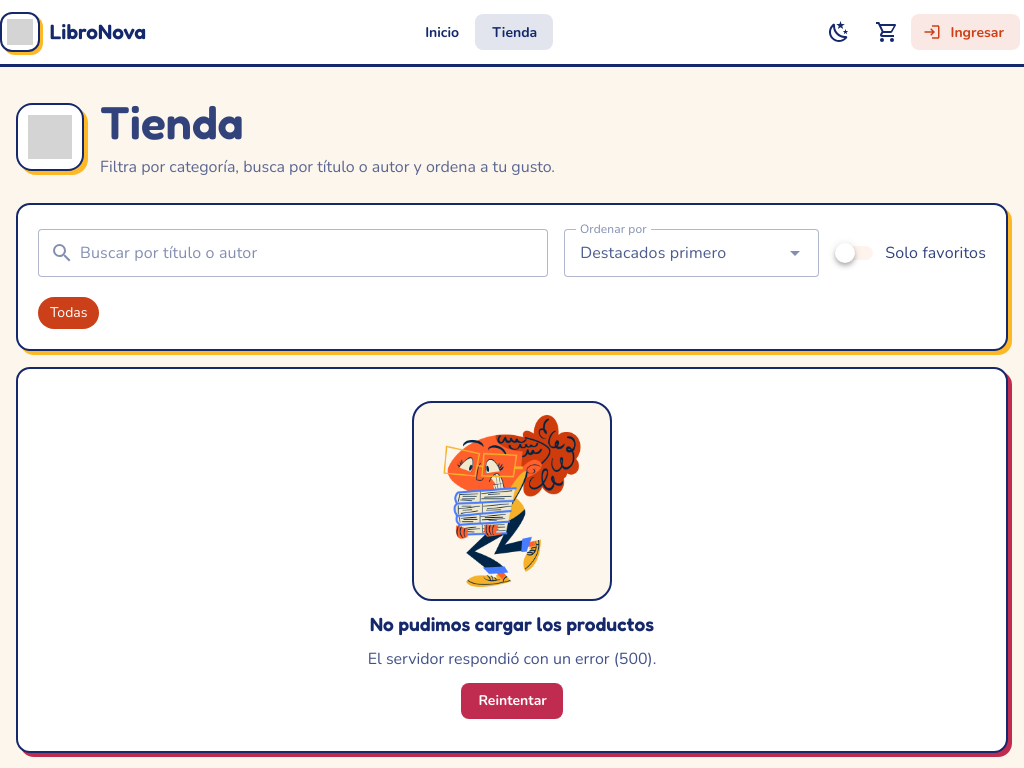
Test case: Tienda: catálogo de productos › muestra el error y permite reintentar
Expected: the message with test id "estado-error" is shown, x1=16 y1=367 x2=1008 y2=753
Expected: the heading with test id "estado-error" shows "No pudimos cargar", x1=370 y1=612 x2=654 y2=636
Click the button "Reintentar".
click(512, 701)  # box x1=461 y1=683 x2=563 y2=719
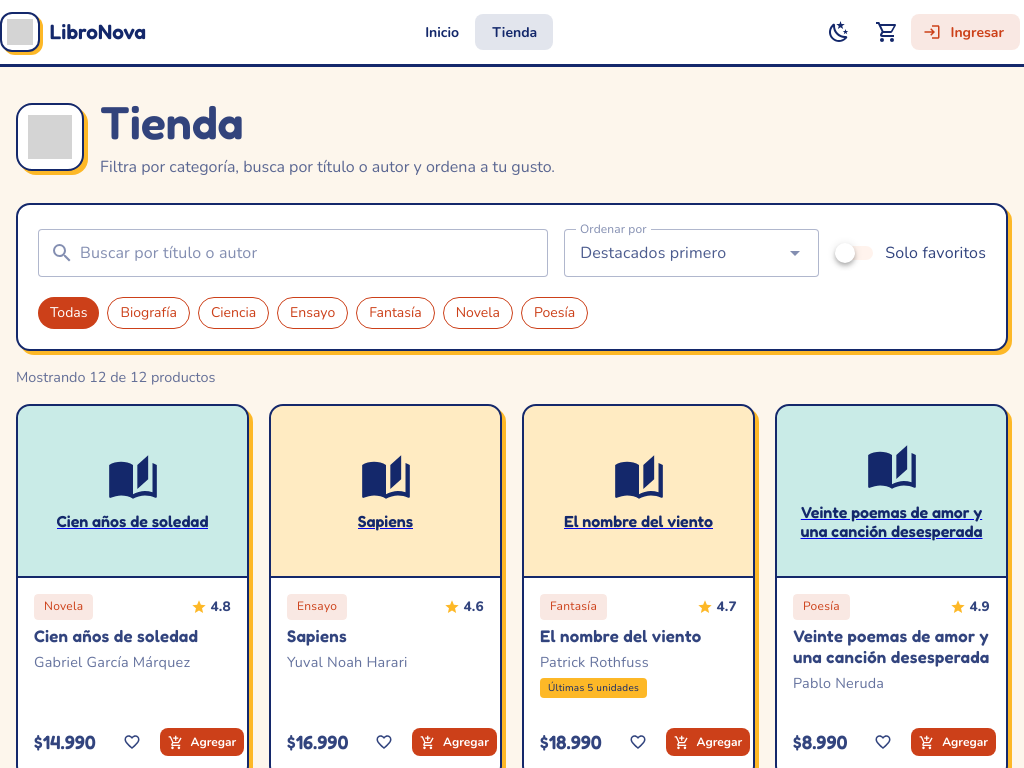
Expected: the message with test id "estado-error" is gone
Expected: the element with test id "producto-card" that starts with "Cien años de soledad" is shown, x1=16 y1=404 x2=249 y2=767
